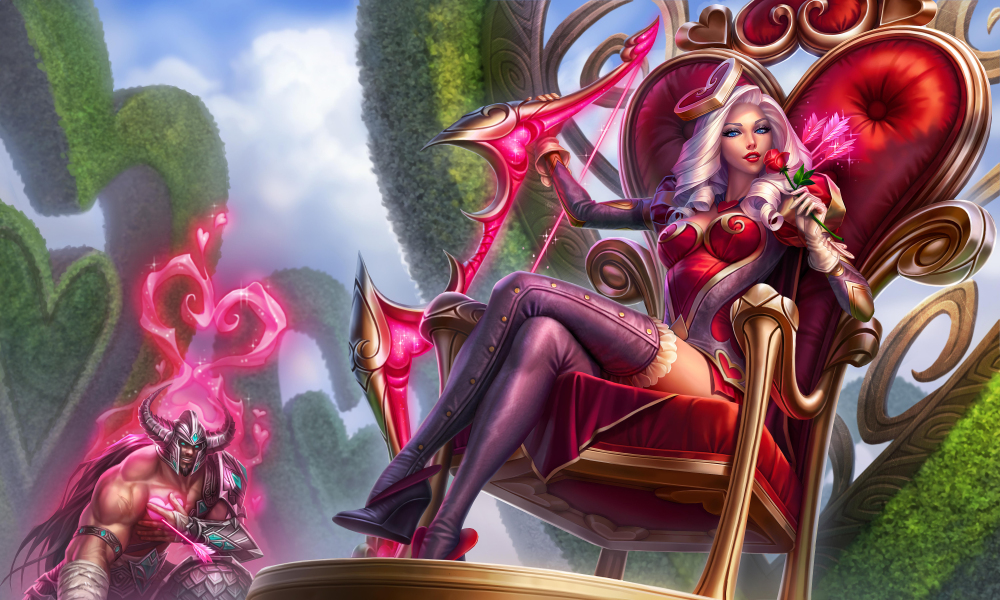face: (678, 59, 816, 223), (142, 380, 246, 499)
